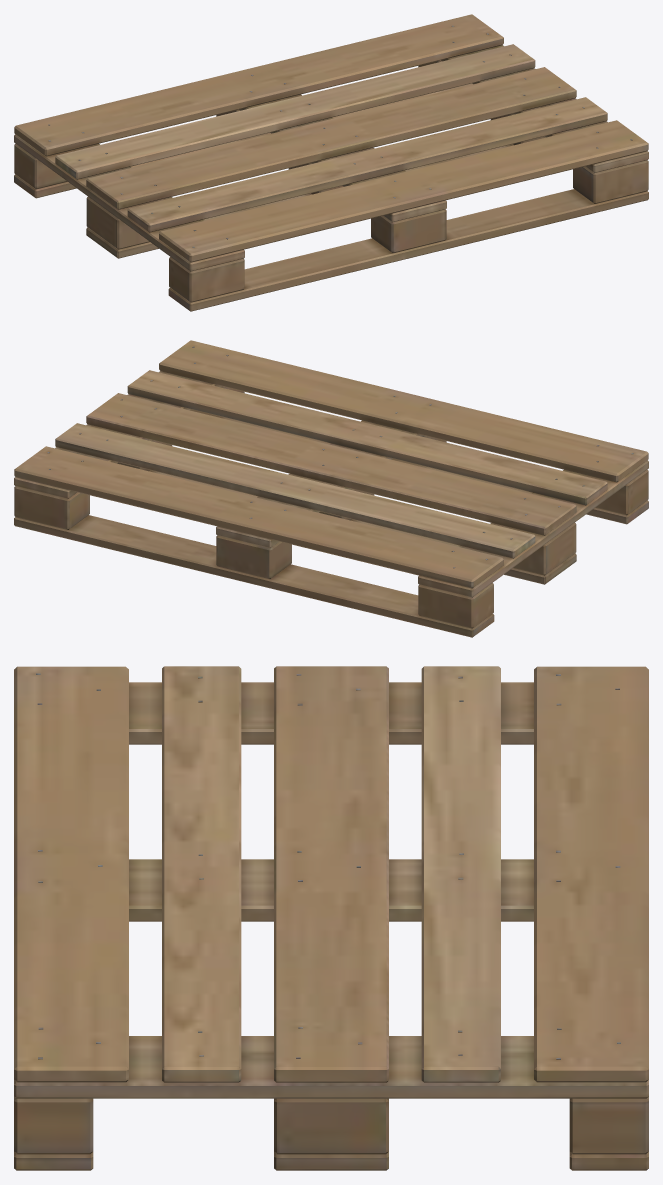
Rendered from g3d_wooden_pallet.glb.
3 views of the same model, one above another, from view 1: azimuth 30°, elevation 25°; view 2: azimuth 150°, elevation 25°; view 3: azimuth 270°, elevation 25° (orthographic). The views are drawn at different scales.
Visible parts, largest first — view 1: wooden-pallet_body; view 2: wooden-pallet_body; view 3: wooden-pallet_body.
Part boxes in pixels (<box>): wooden-pallet_body: <box>14,14,648,311</box>; wooden-pallet_body: <box>14,340,648,637</box>; wooden-pallet_body: <box>14,666,648,1170</box>.
Size of the model in its own units: 1.2 by 0.1444 by 0.8.
Materials: 1 (1 with a texture image).
